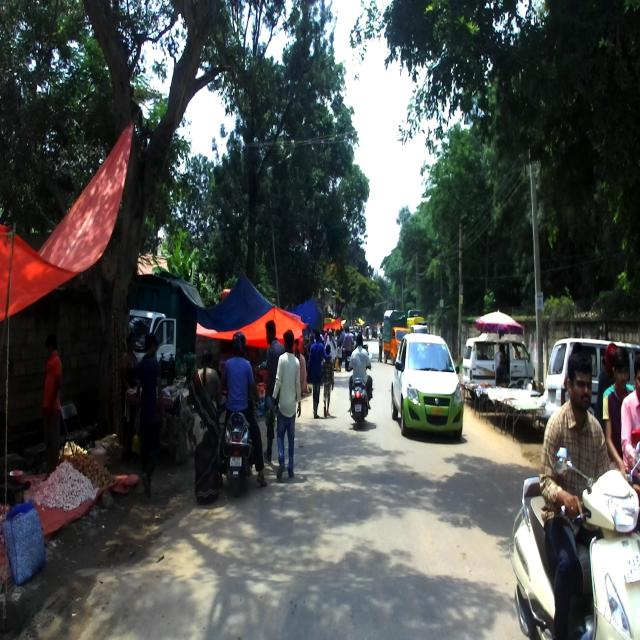Car_Maruti-Suzuki: (544, 337, 640, 426), (391, 332, 463, 441), (462, 332, 534, 387)
scooter: (509, 440, 639, 639), (219, 369, 263, 498), (346, 352, 373, 428)
